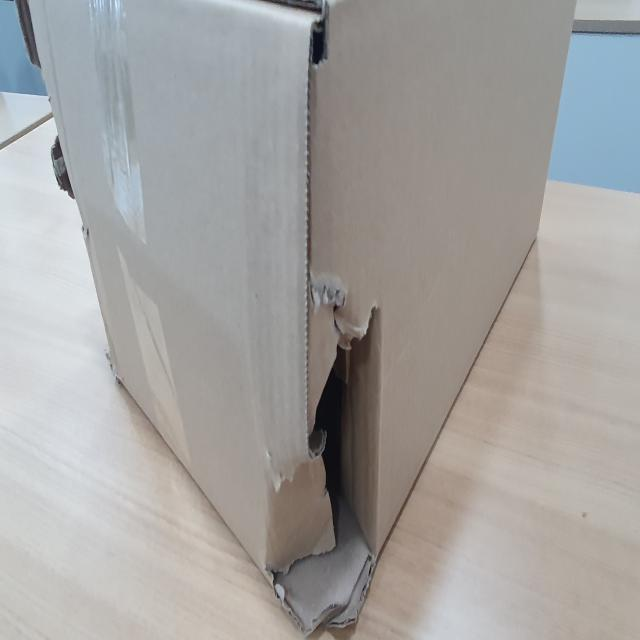hole: (280, 287, 386, 631)
